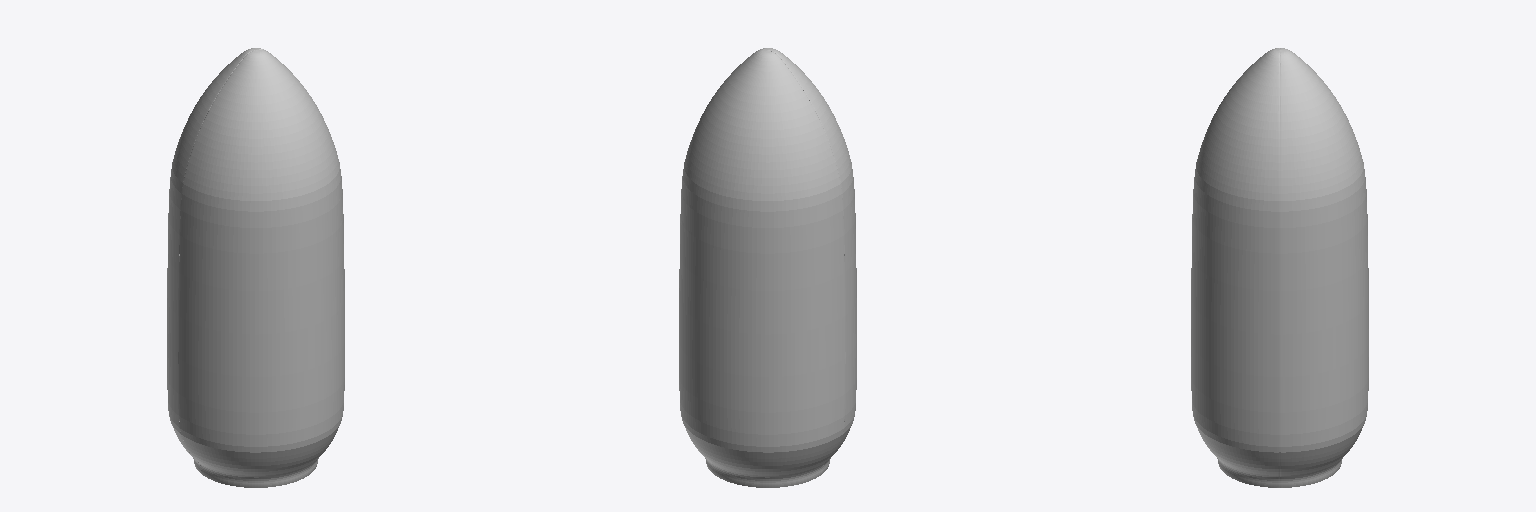
Rendered from BAS.obj.
The picture shows the model from 3 angles: view 1: azimuth 30°, elevation 25°; view 2: azimuth 150°, elevation 25°; view 3: azimuth 270°, elevation 25°; orthographic projection.
Size of the model in its own units: 2 by 5.08 by 1.99.